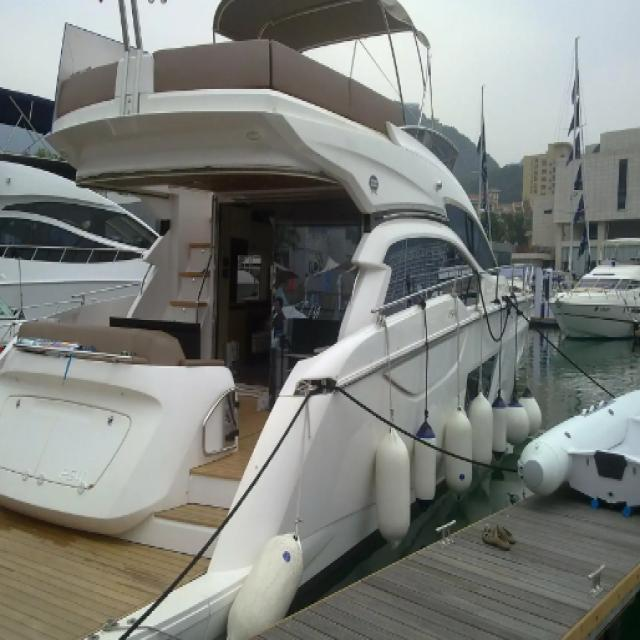houseboat: (0, 0, 527, 635), (548, 230, 640, 344)
